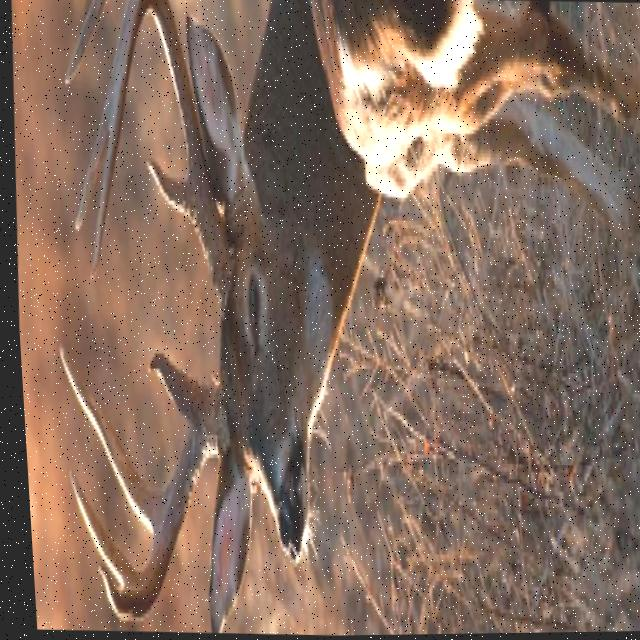L-F: (91, 383, 226, 622)
L-G1: (143, 351, 194, 426)
L-G2: (54, 345, 159, 537)
L-G3: (63, 467, 129, 585)
R-F: (86, 0, 230, 317)
R-G1: (143, 156, 191, 224)
R-G2: (63, 0, 108, 86)
R-G3: (71, 101, 108, 231)
